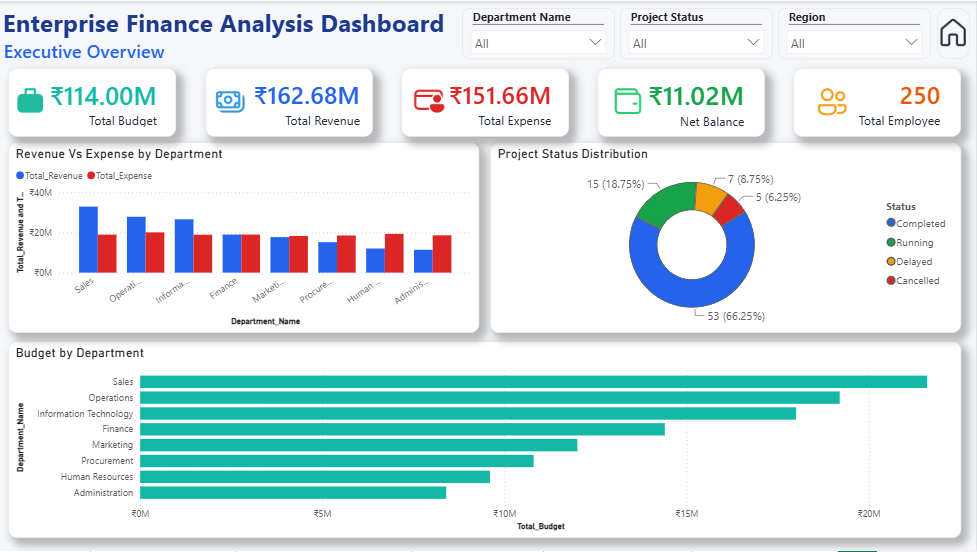

Layout of this report page (visuals, bound fields, positions):
{"tool":"powerbi","page":{"name":"Executive Overview","canvas":[1280,720],"ordinal":1},"visuals":[{"type":"shape","box":[1227.7,8.9,43.3,66.7],"z":0,"group":"g1"},{"type":"textbox","box":[1.7,43.3,261.7,43.3],"z":0},{"type":"image","box":[1224.4,20,50,44.4],"z":1000,"group":"g1"},{"type":"clusteredBarChart","title":"Budget by Department","fields":{"Category":["department.Department_Name"],"Y":["budget.Total_Budget"]},"box":[11.7,445,1248.3,258.3],"z":1000},{"type":"clusteredColumnChart","title":"Revenue Vs Expense by Department","fields":{"Category":["department.Department_Name"],"Y":["revenue.Total_Revenue","expense.Total_Expense"]},"box":[11.7,185,616.7,250],"z":2000},{"type":"textbox","box":[0,0,592,60],"z":3000},{"type":"donutChart","title":"Project Status Distribution","fields":{"Category":["projects.Status"],"Y":["projects.Total_Project"]},"box":[643.3,185,616.7,250],"z":4000},{"type":"cardVisual","fields":{"Data":["Measure.Total_Budget"]},"box":[12.4,88.3,220,90],"z":5000},{"type":"cardVisual","fields":{"Data":["Measure.Net_Balance"]},"box":[783.1,88.3,220,90],"z":6000},{"type":"cardVisual","fields":{"Data":["Measure.Total_Employee"]},"box":[1040,88.3,220,90],"z":7000},{"type":"cardVisual","fields":{"Data":["Measure.Total_Revenue"]},"box":[269.3,88.3,220,90],"z":8000},{"type":"cardVisual","fields":{"Data":["Measure.Total_Expense"]},"box":[526.2,88.3,220,90],"z":9000},{"type":"slicer","fields":{"Values":["region.Region_Name"]},"box":[606.7,8.7,200,67],"z":10000},{"type":"slicer","fields":{"Values":["region.Region_Name"]},"box":[1020,8.7,200,66.7],"z":11000},{"type":"slicer","fields":{"Values":["projects.Status"]},"box":[813.3,8.7,200,66.7],"z":12000},{"type":"image","box":[10,108,60,45],"z":13000},{"type":"image","box":[272.7,108,60,45],"z":14000},{"type":"image","box":[793.4,108,59,44.6],"z":15000},{"type":"image","box":[1059.8,108,60.5,44.6],"z":16000},{"type":"image","box":[532.8,108,59,44.6],"z":17000},{"type":"group","id":"g1","title":"Group 1","box":[1224.4,8.9,50,66.7],"z":18000}]}

Visuals, with their boxes in screenshot pixels (x1, y1, x2, y2), scaled from the page's 1280x720 canvas onto the 977x552 screenshot:
shape: [x1=937, y1=7, x2=970, y2=58]
textbox: [x1=1, y1=33, x2=201, y2=66]
image: [x1=935, y1=15, x2=973, y2=49]
"Budget by Department" clusteredBarChart: [x1=9, y1=341, x2=962, y2=539]
"Revenue Vs Expense by Department" clusteredColumnChart: [x1=9, y1=142, x2=480, y2=334]
textbox: [x1=0, y1=0, x2=452, y2=46]
"Project Status Distribution" donutChart: [x1=491, y1=142, x2=962, y2=334]
cardVisual - Measure.Total_Budget: [x1=9, y1=68, x2=177, y2=137]
cardVisual - Measure.Net_Balance: [x1=598, y1=68, x2=766, y2=137]
cardVisual - Measure.Total_Employee: [x1=794, y1=68, x2=962, y2=137]
cardVisual - Measure.Total_Revenue: [x1=206, y1=68, x2=373, y2=137]
cardVisual - Measure.Total_Expense: [x1=402, y1=68, x2=570, y2=137]
slicer - region.Region_Name: [x1=463, y1=7, x2=616, y2=58]
slicer - region.Region_Name: [x1=779, y1=7, x2=931, y2=58]
slicer - projects.Status: [x1=621, y1=7, x2=773, y2=58]
image: [x1=8, y1=83, x2=53, y2=117]
image: [x1=208, y1=83, x2=254, y2=117]
image: [x1=606, y1=83, x2=651, y2=117]
image: [x1=809, y1=83, x2=855, y2=117]
image: [x1=407, y1=83, x2=452, y2=117]
"Group 1" group: [x1=935, y1=7, x2=973, y2=58]
